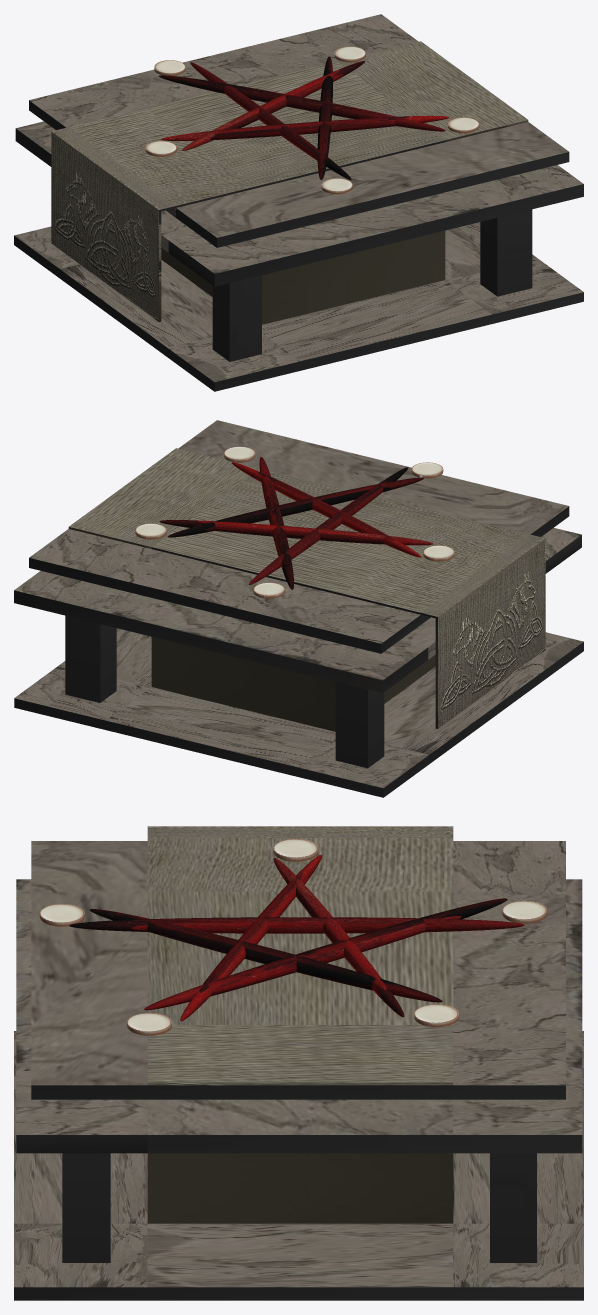
The model's file is ПЕНТАГРАММА1 (2).fbx.
3 views of the same model, one above another, from view 1: azimuth 30°, elevation 25°; view 2: azimuth 150°, elevation 25°; view 3: azimuth 270°, elevation 25° (orthographic). The views are drawn at different scales.
Parts seen in each view (by area): view 1: Cube.005, Cube.001, Cube, Cube.003, Cube.002, Cube.004; view 2: Cube.005, Cube.002, Cube.004, Cube, Cube.003, Cube.001; view 3: Cube.005, Cube.003, Cube.001, Cube.004, Cube, Cube.002, Cylinder.001, Cylinder.005, Cylinder.003, Cylinder.004, Cylinder.002.
Part boxes in pixels (x1,y1,x2,y2): Cube.005: [14, 14, 583, 391]; Cube.001: [159, 75, 445, 131]; Cube: [161, 115, 448, 140]; Cube.003: [190, 62, 351, 179]; Cube.002: [182, 61, 364, 150]; Cube.004: [317, 56, 332, 180]; Cube.005: [14, 420, 583, 797]; Cube.002: [159, 520, 433, 545]; Cube.004: [167, 477, 423, 537]; Cube: [232, 462, 421, 557]; Cube.003: [248, 467, 408, 584]; Cube.001: [259, 457, 293, 589]; Cube.005: [14, 826, 583, 1300]; Cube.003: [69, 917, 524, 933]; Cube.001: [144, 898, 507, 1010]; Cube.004: [89, 909, 442, 1002]; Cube: [180, 855, 321, 1021]; Cube.002: [273, 857, 404, 1017]; Cylinder.001: [273, 839, 318, 861]; Cylinder.005: [127, 1013, 171, 1035]; Cylinder.003: [502, 900, 546, 923]; Cylinder.004: [414, 1004, 458, 1026]; Cylinder.002: [39, 904, 84, 926].
Size of the model in its own units: 149 by 61.98 by 137.
3 materials, 3 textured.
